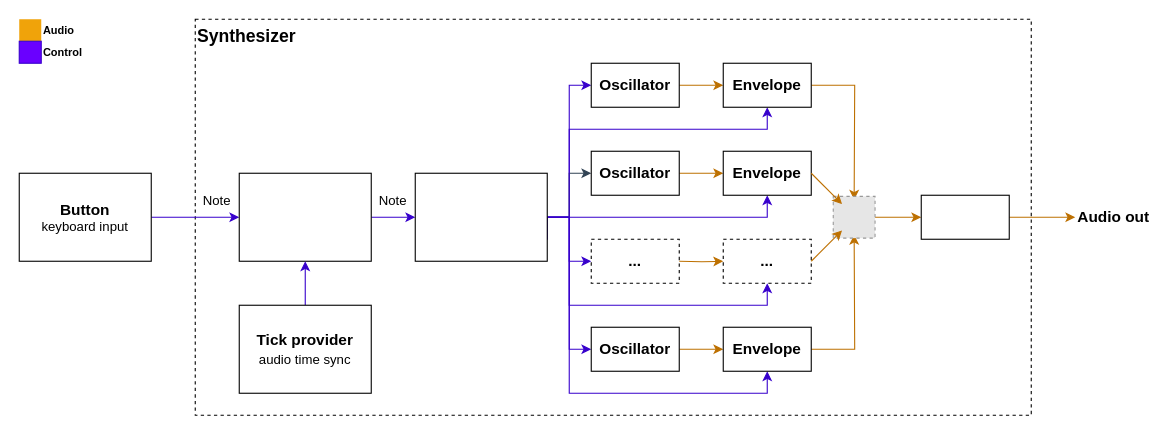
Some shapes in this 1172 by 435 pixel diagram are drawn without their labels. Grey dashed boxes stand in for pictures. The shapes that lost their labels are listed below. From the top down, each one's centre as x and y in pixels, then its label:
(304,216): Arpeggio input transform
(480,216): keys assign assign note to an oscillator
(964,216): Effect echo
